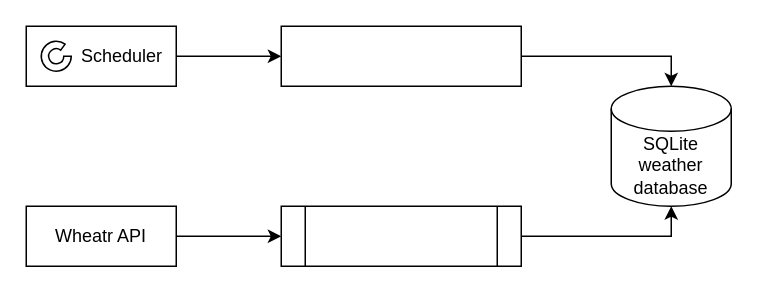
Image size: 758x293. Some labels were removed from this diagram. Each missing label, with the centre of its shape:
"Calculator" belongs at (400,235).
"Connector / Dataloader" belongs at (400,55).
